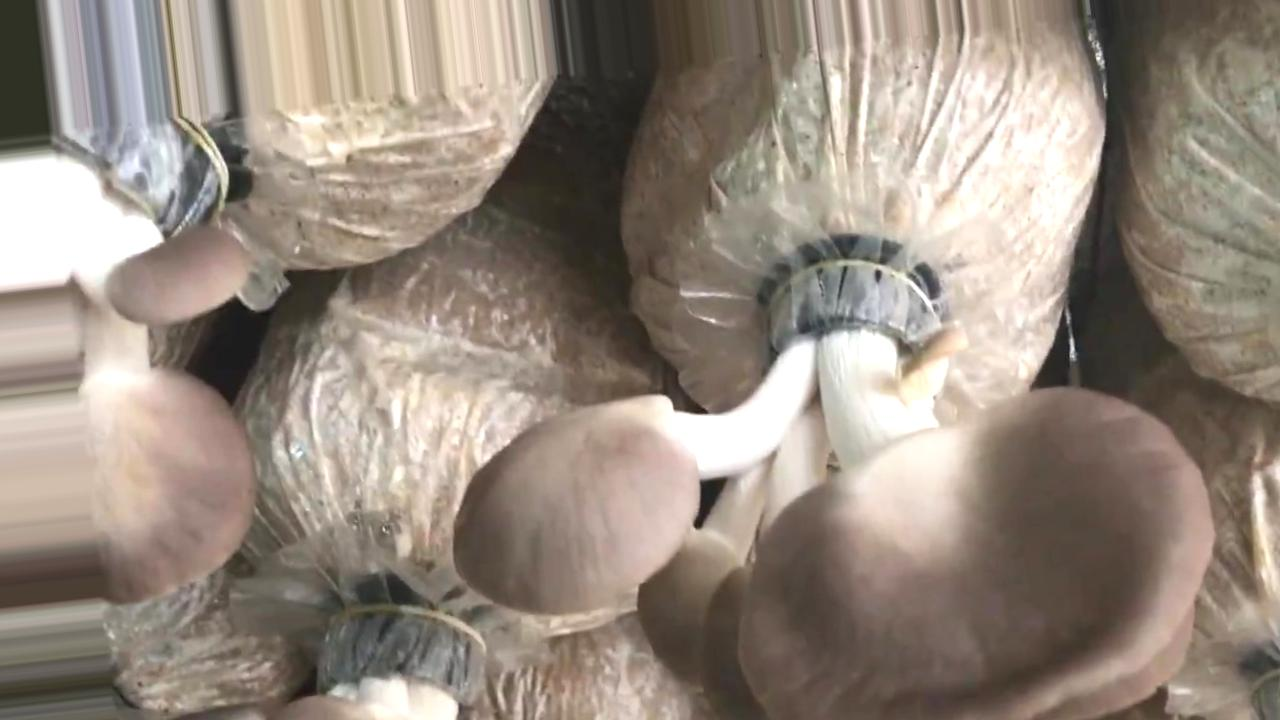nam: (457, 253, 1209, 720), (1, 112, 255, 602)
